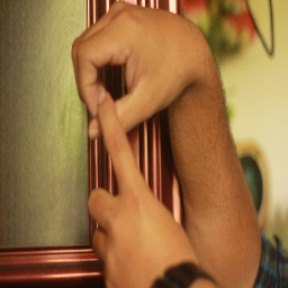Q: (68, 1, 210, 249)
